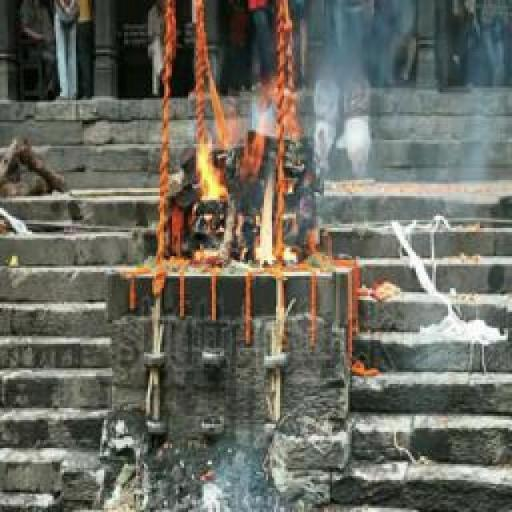smoke: (192, 80, 282, 266)
